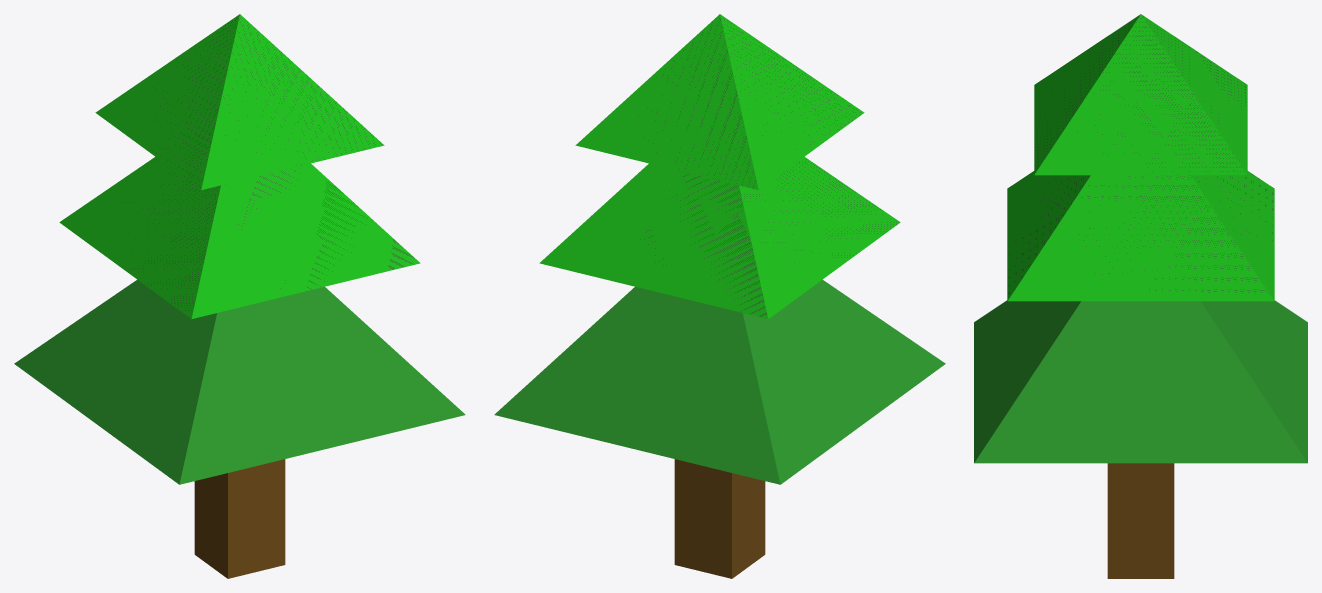
The model's file is Spruce.obj.
The picture shows the model from 3 angles, left to right: view 1: azimuth 30°, elevation 25°; view 2: azimuth 150°, elevation 25°; view 3: azimuth 270°, elevation 25°; orthographic projection.
Visible parts, largest first — view 1: Spruce_Cube.001; view 2: Spruce_Cube.001; view 3: Spruce_Cube.001.
Part boxes in pixels (<box>): Spruce_Cube.001: <box>14,14,465,578</box>; Spruce_Cube.001: <box>494,14,945,578</box>; Spruce_Cube.001: <box>974,14,1307,578</box>.
Size of the model in its own units: 2 by 3.64 by 2.
1 material, 1 textured.
